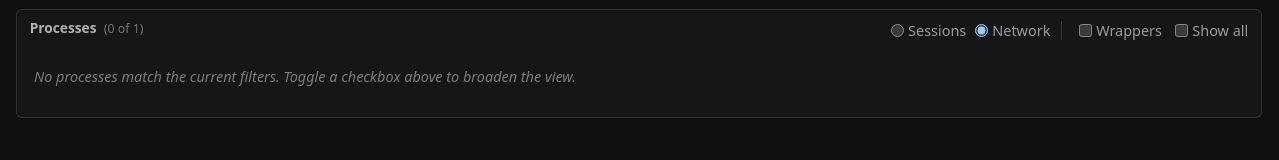
Scenario: ProcessesPanel › omits the serving warning for a row with no ports
Click the radio button labelled "Sessions" at (897, 31), box left=891, top=24, right=904, bottom=37
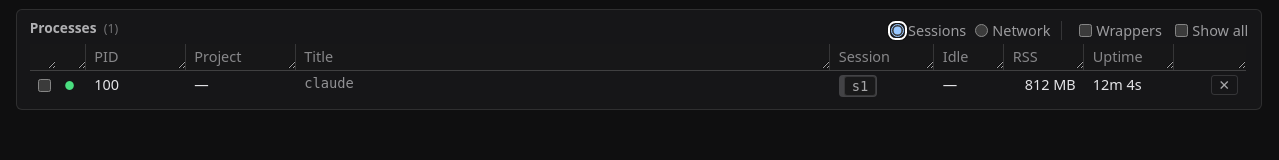
expect the text "100" is shown: met, box left=86, top=70, right=186, bottom=101
